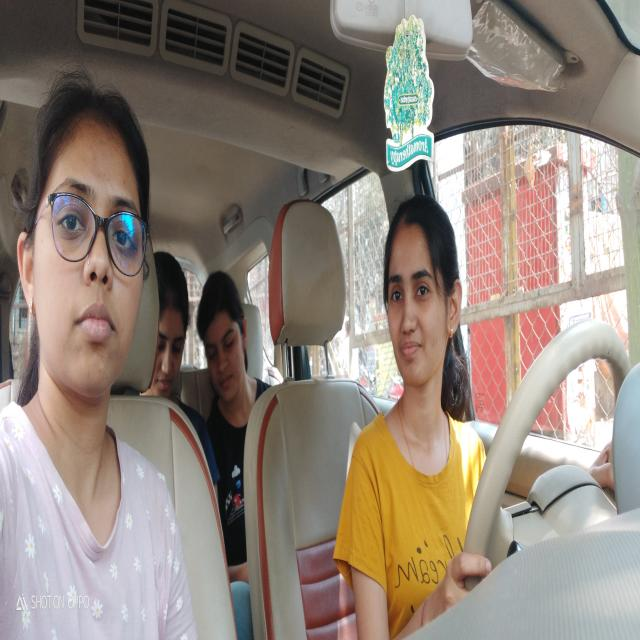person: (35, 106, 144, 383), (381, 202, 470, 384), (195, 286, 250, 397), (161, 286, 191, 392)
